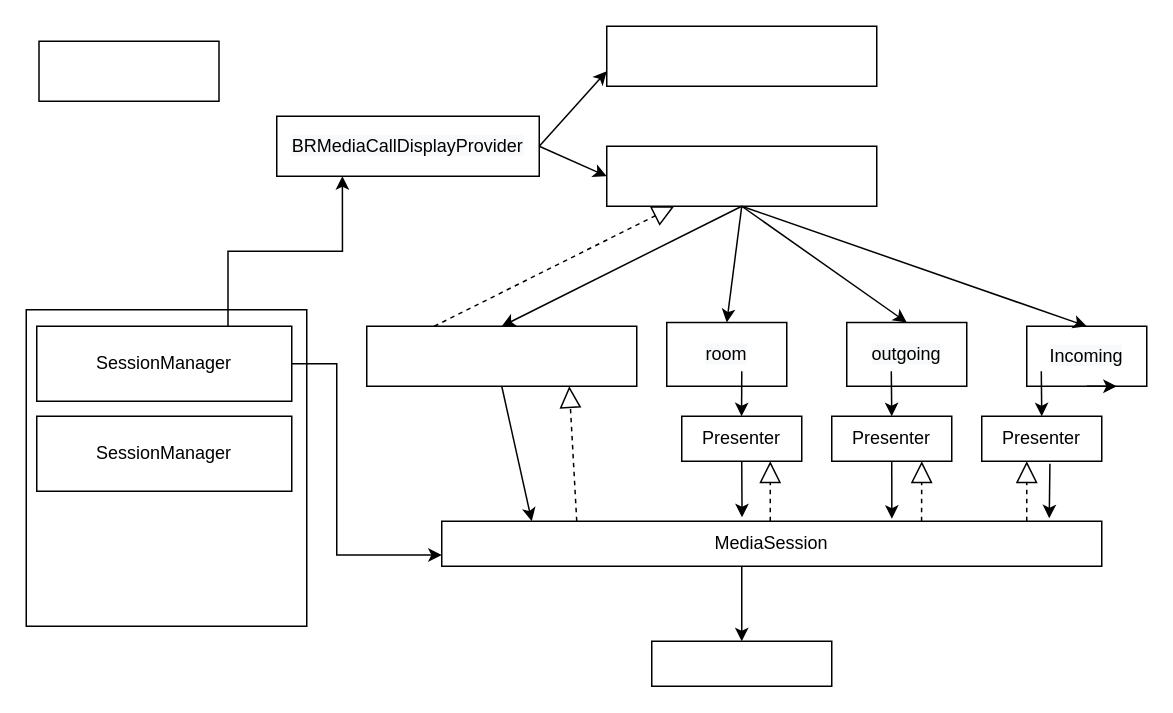
Some shapes in this 1173 by 713 pixel diagram are drawn without their labels. The shapes that lost their labels are listed below. From the top down, each one's centre as x and y in pixels, then its label:
At point (128, 70): "BRMediaCallService".
At point (741, 55): "FloatingWindow".
At point (741, 175): "ControllerViewController".
At point (501, 355): "ControlManager".
At point (741, 663): "RCSSession".
